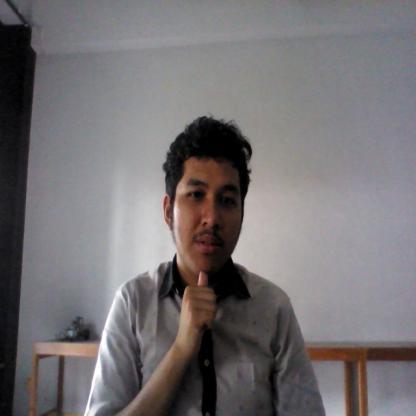Siapa: (176, 262, 221, 366)
